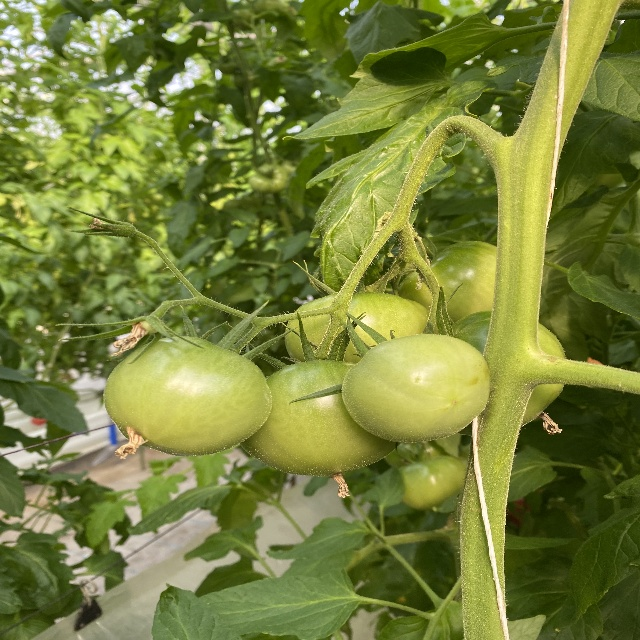b_green: (103, 337, 272, 457), (239, 359, 402, 477), (342, 334, 489, 444), (440, 310, 566, 437), (285, 292, 447, 363), (398, 240, 497, 329)
